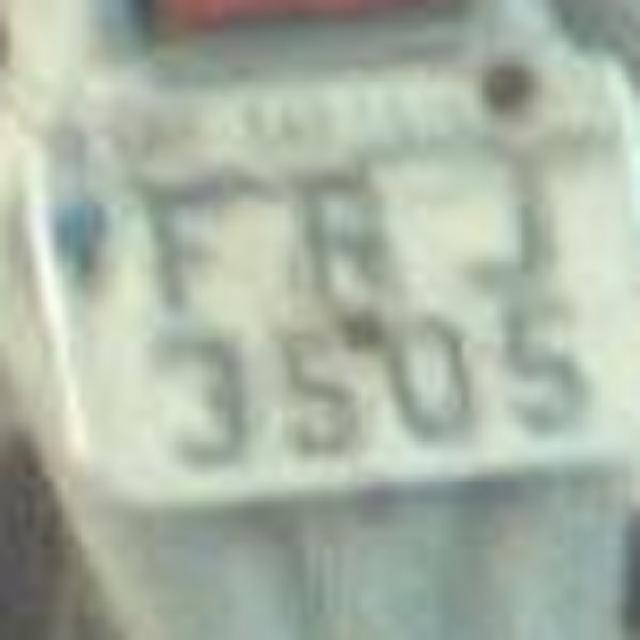0: (360, 292, 492, 476)
3: (116, 288, 276, 484)
5: (244, 309, 376, 476), (471, 295, 604, 460)
B: (289, 160, 416, 315)
F: (132, 148, 260, 304)
J: (440, 152, 568, 308)
